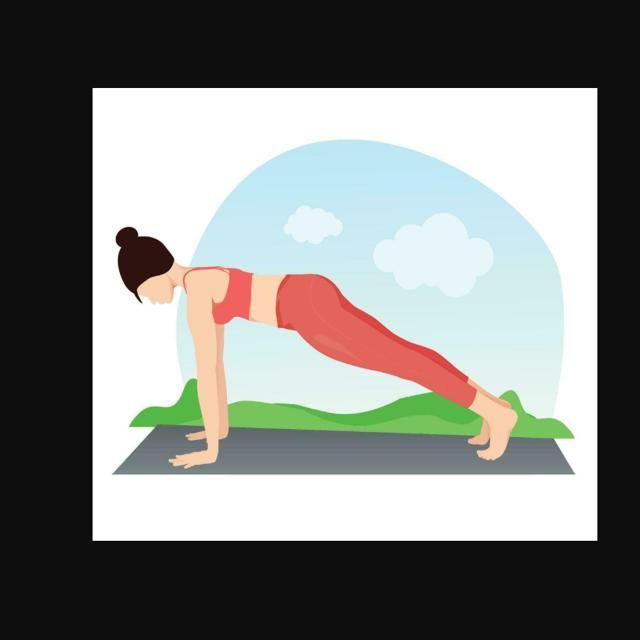Plank_Pose: (110, 226, 526, 476)
